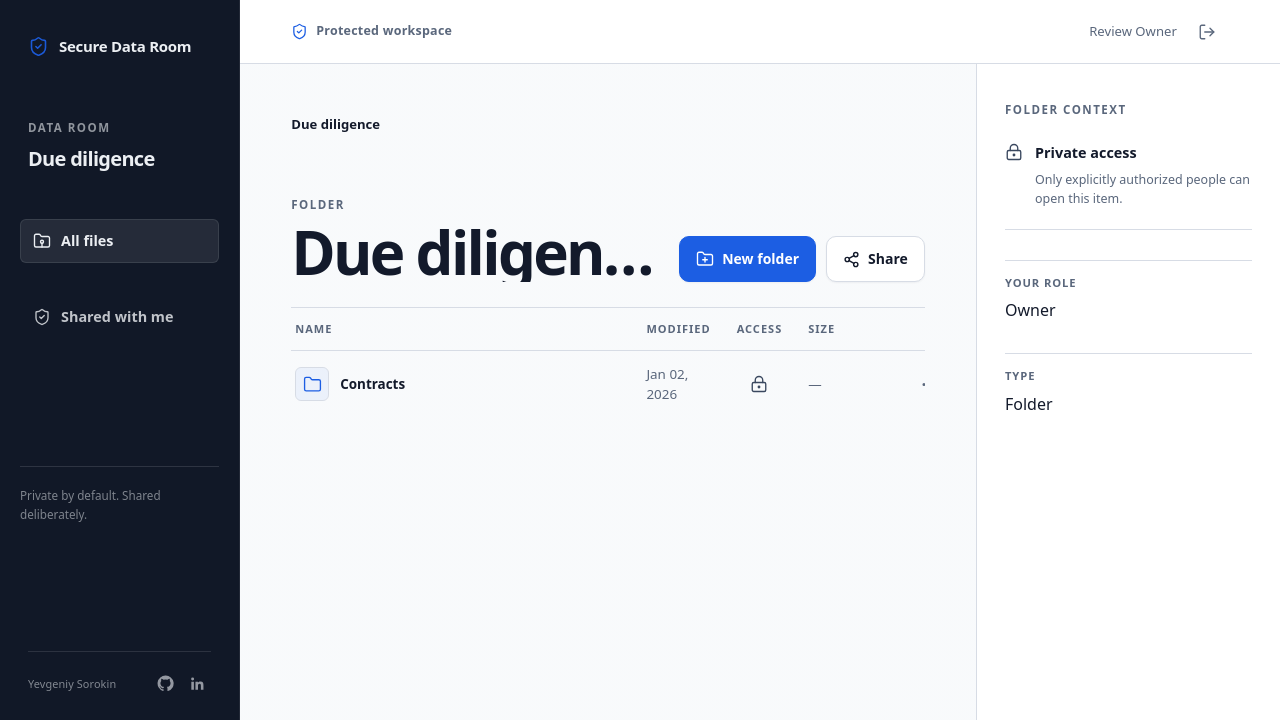
Test: DataRoomRoute › keeps the current workspace content stable while a first-time folder navigation loads
Check: the heading "Due diligence" is shown, box [291,222,655,282]
Click the link "Contracts" at (373, 384), box [340,374,405,394]
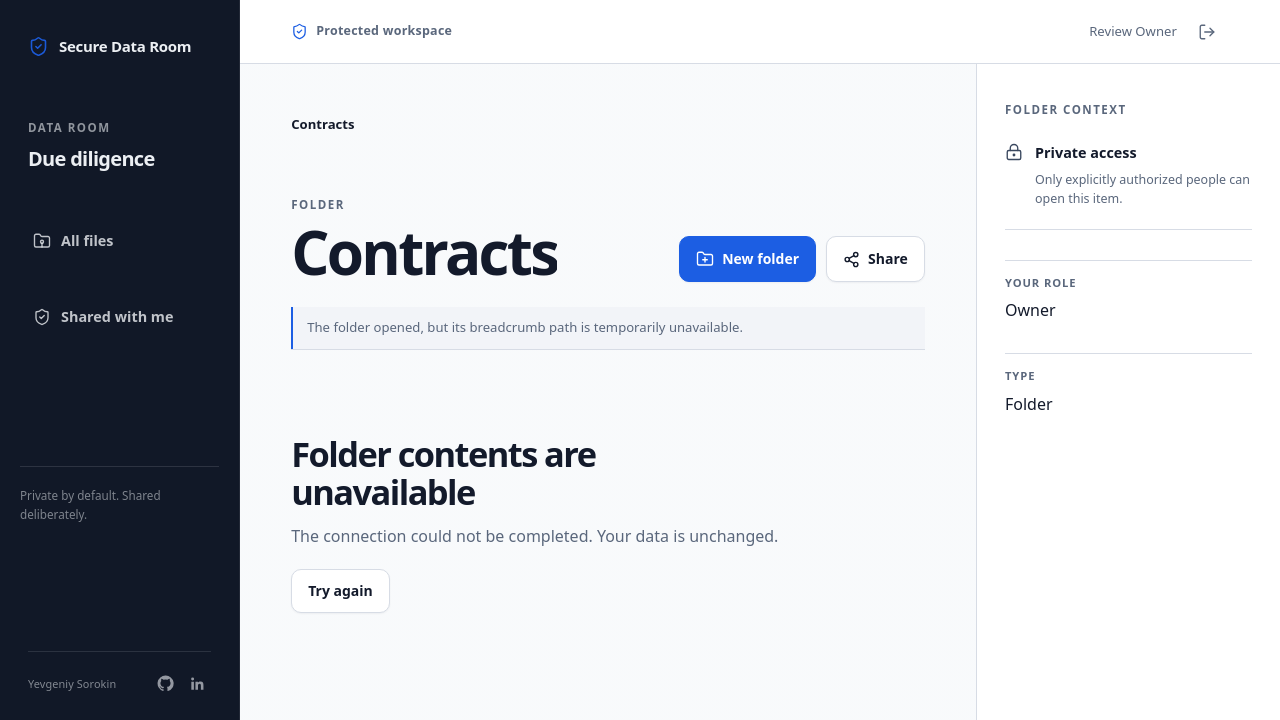
Check: the text "Folder context" is shown, box [1005,102,1127,117]
Check: the heading "Contracts" is shown, box [291,222,557,282]
